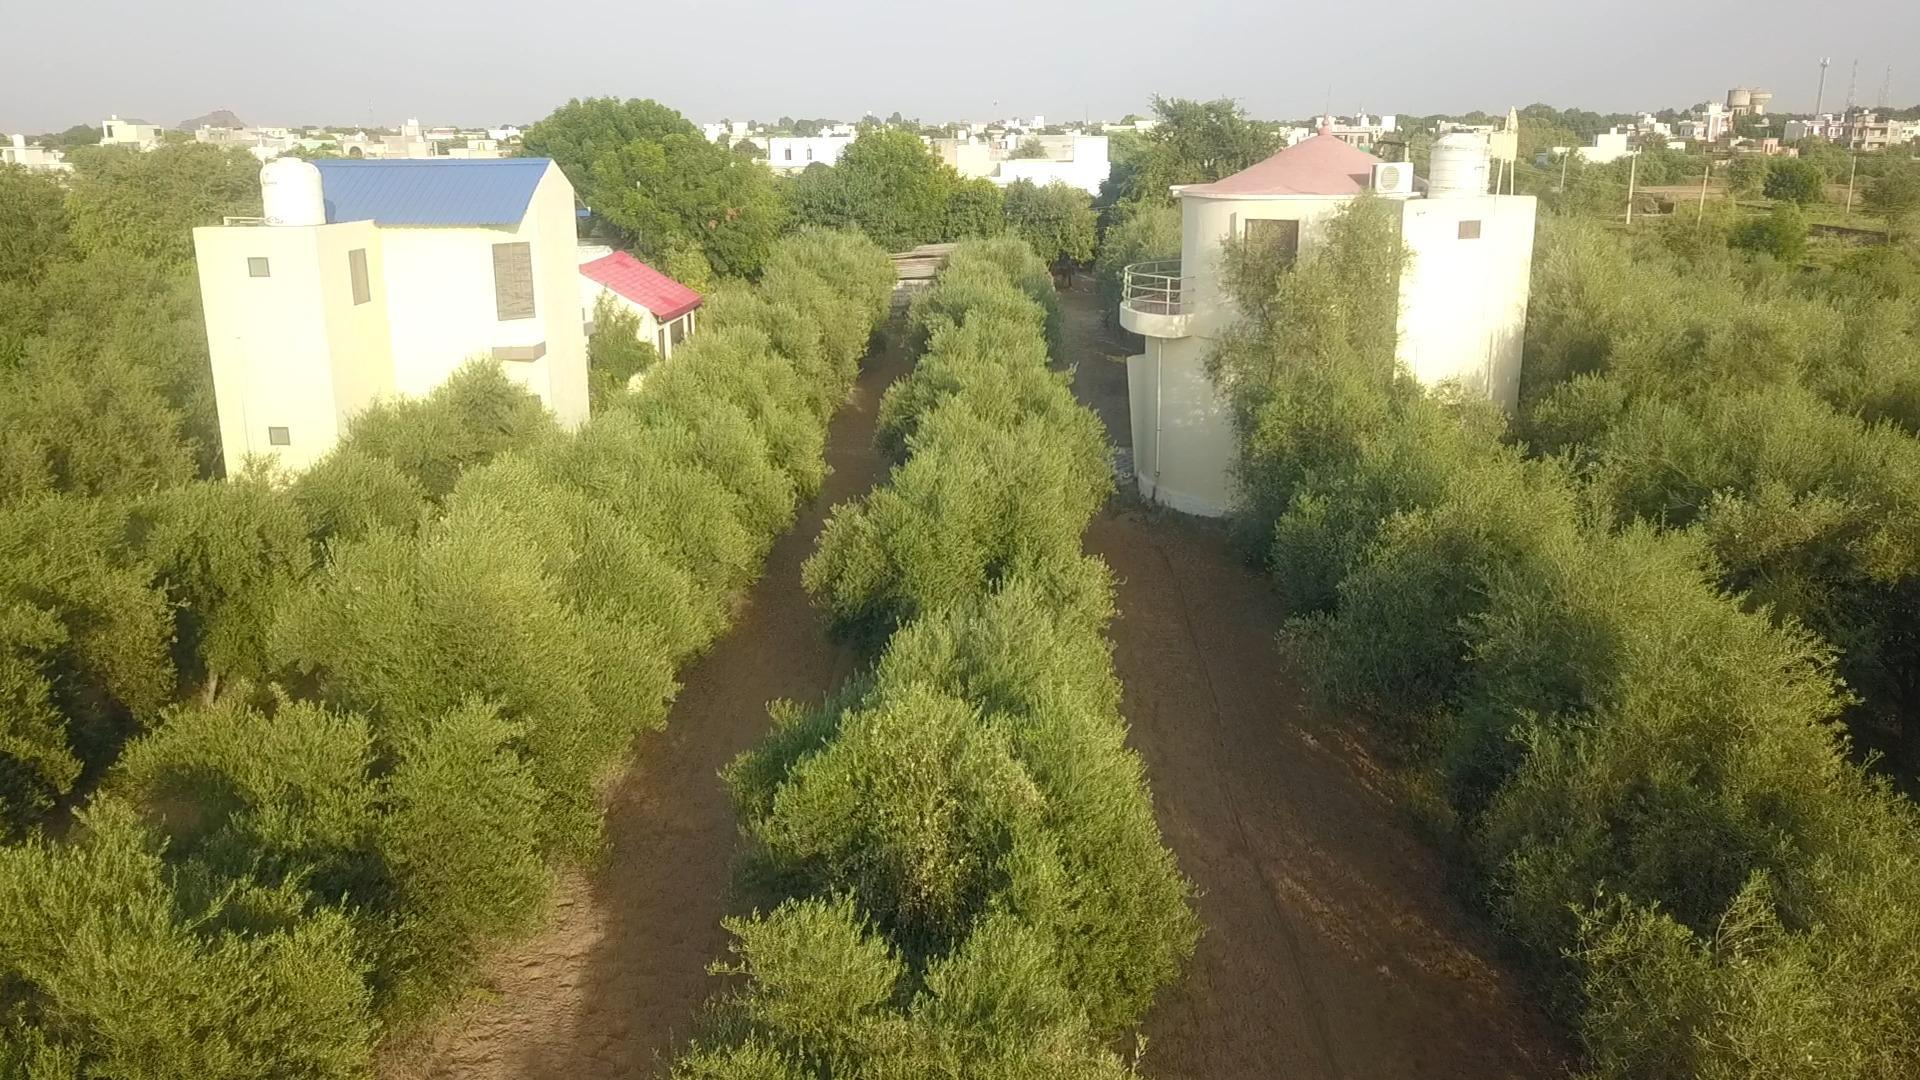canopy: (0, 233, 895, 1079), (1216, 203, 1919, 1079), (675, 237, 1199, 1079)
road: (386, 355, 905, 1079), (1087, 508, 1564, 1079)
